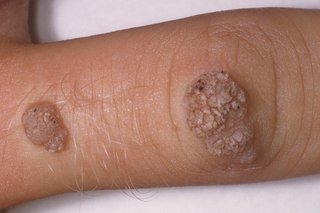Warts: (176, 65, 267, 172), (17, 94, 75, 160)
